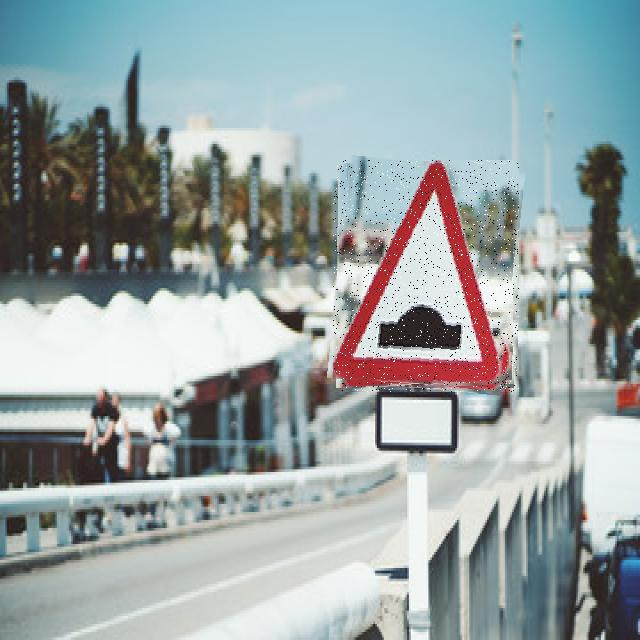hump: (333, 160, 519, 392)
